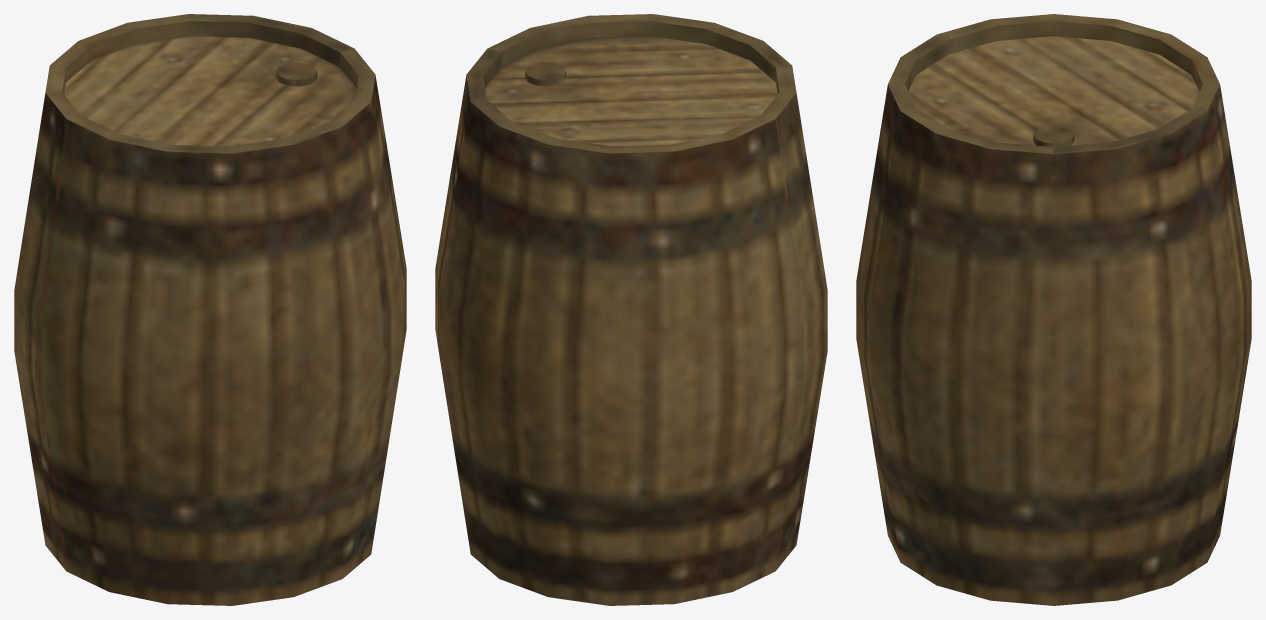
File: 26e0d86c-ee32-41ec-b6da-824fb8c18dcc.glb
3 renders of one model, left to right at view 1: azimuth 30°, elevation 25°; view 2: azimuth 150°, elevation 25°; view 3: azimuth 270°, elevation 25°, orthographic.
Parts seen in each view (by area): view 1: BarrelClosed; view 2: BarrelClosed; view 3: BarrelClosed.
Part boxes in pixels (box(x1,y1,x2,y2)): BarrelClosed: box(14, 14, 406, 605); BarrelClosed: box(435, 14, 827, 605); BarrelClosed: box(856, 14, 1251, 605).
Size of what is drawn, in the model's own units: 0.932 by 1.18 by 0.932.
Materials: 1 (1 with a texture image).
